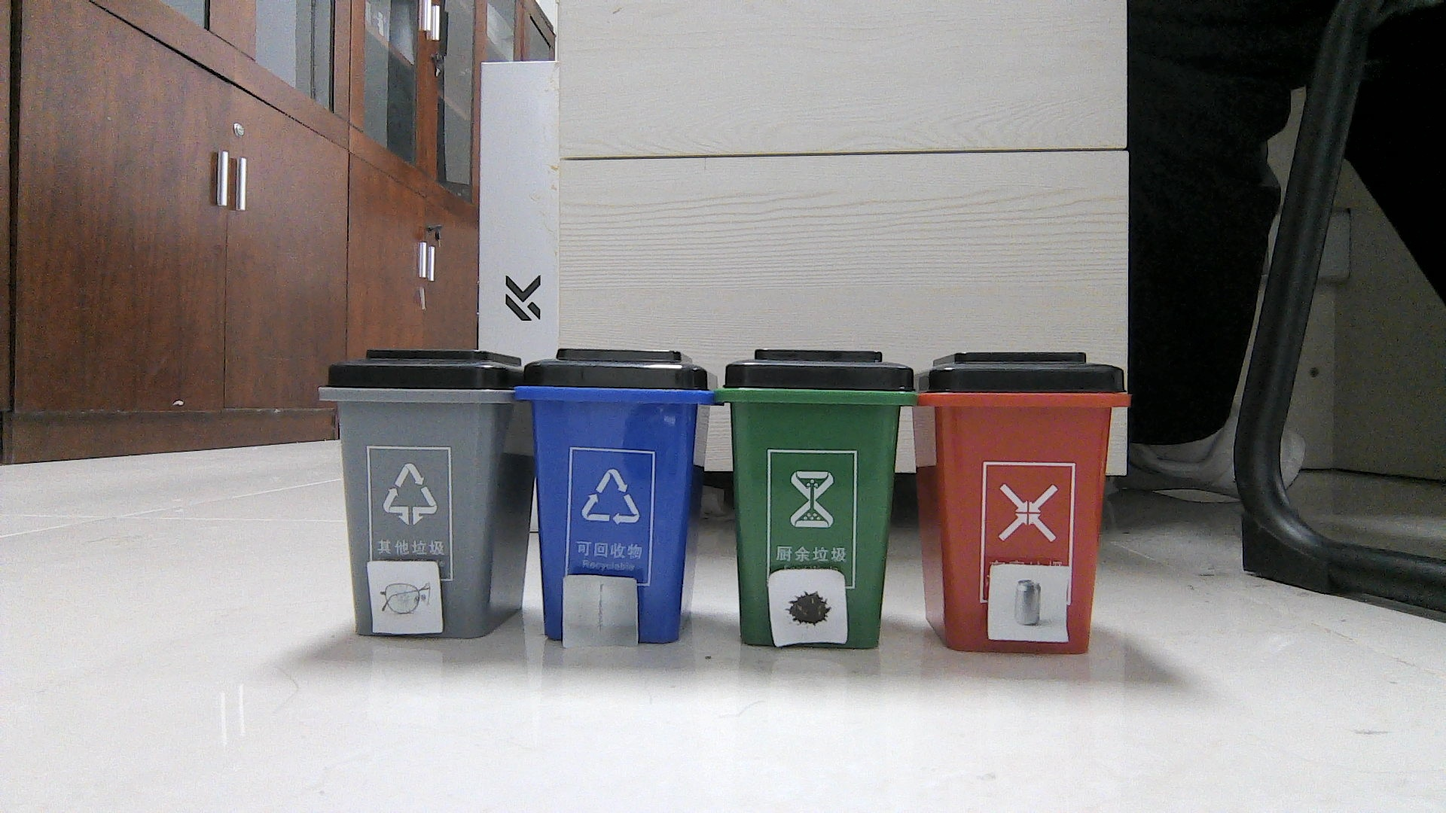food_trash: (774, 577, 840, 638)
hazardous_trash: (574, 575, 633, 646)
other_trash: (375, 564, 437, 630)
recyclable_trash: (992, 564, 1060, 637)
